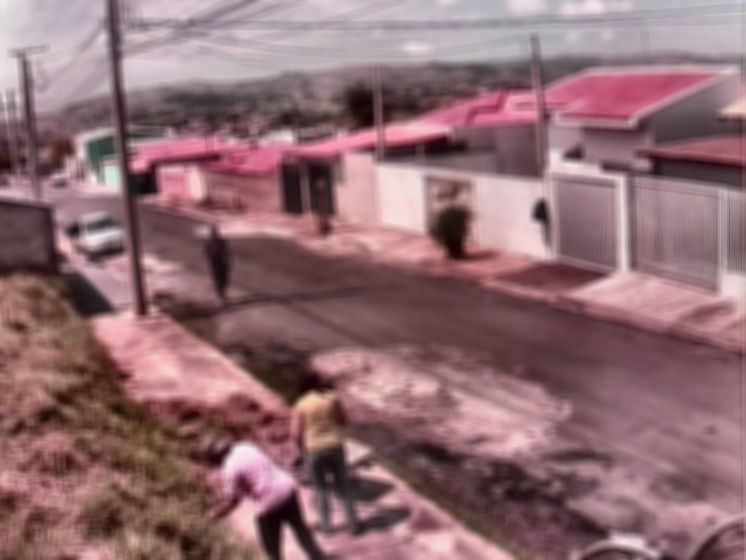person: (201, 436, 327, 560), (291, 369, 365, 537), (202, 224, 236, 310)
